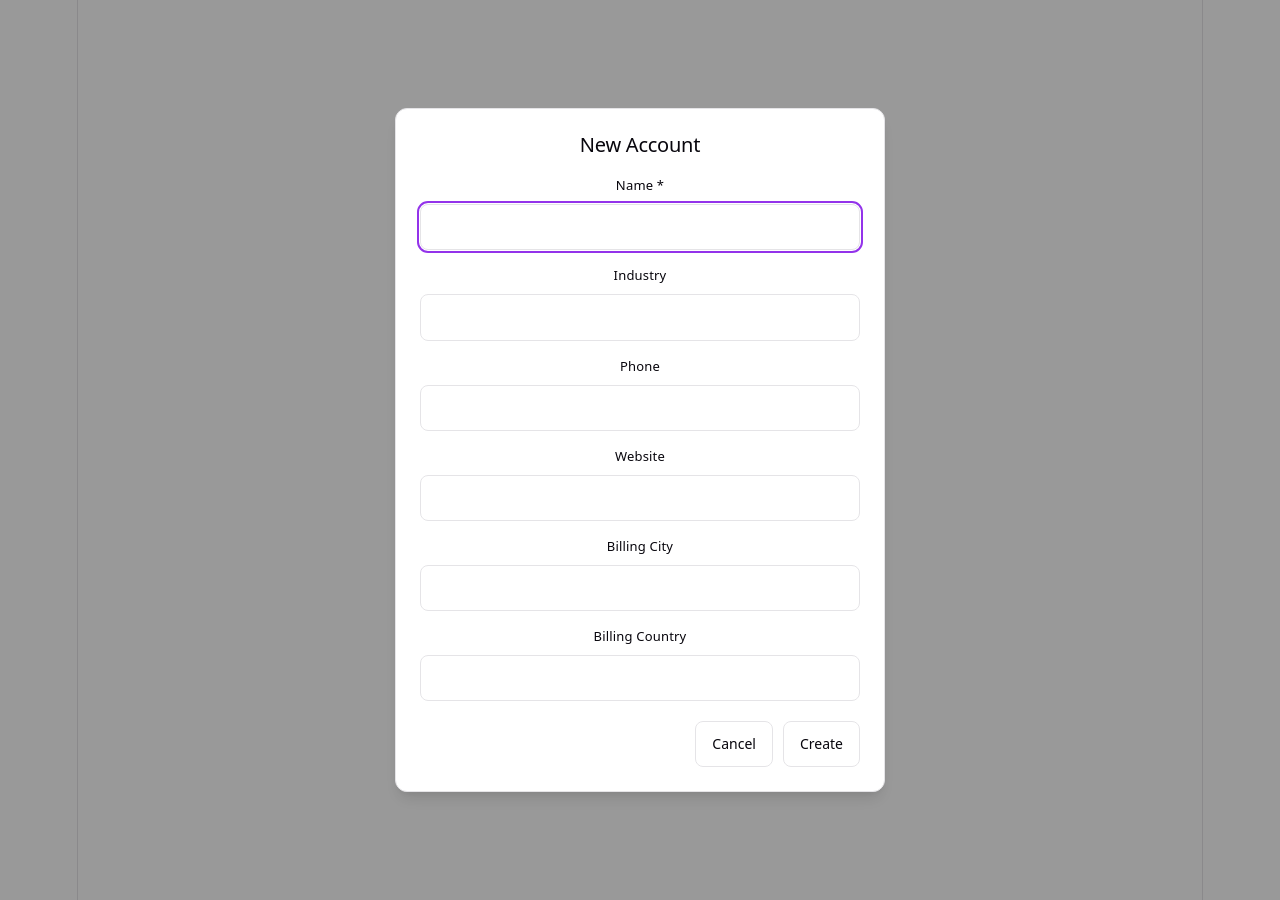
Test: NewAccountModal › shows the API error message and does not close on failure
Type "Acme Corp" into the field labelled "Name *" at (640, 227), box top-left (420, 204), bottom-right (860, 250)
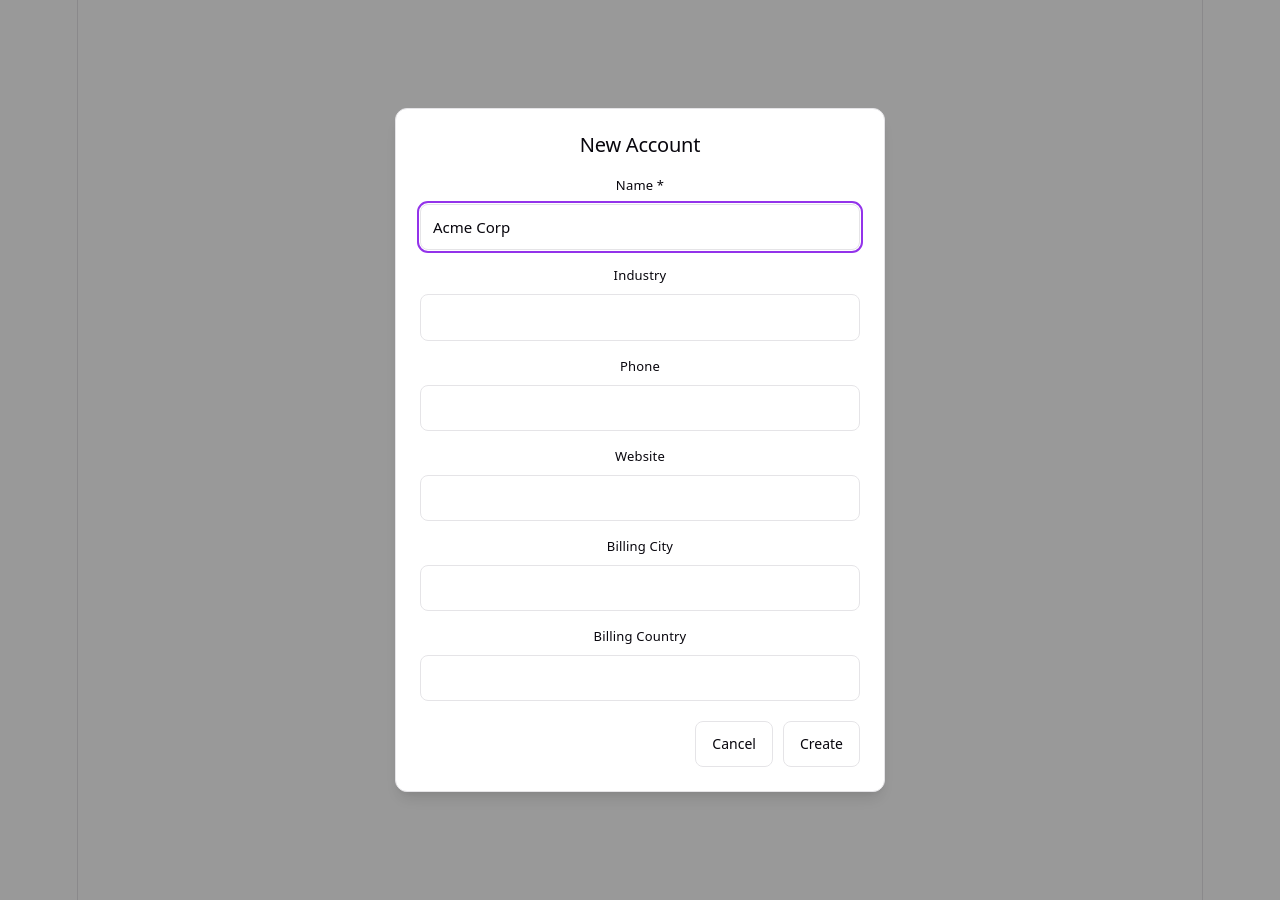
Click the button "Create" at (821, 744), box top-left (783, 721), bottom-right (860, 767)
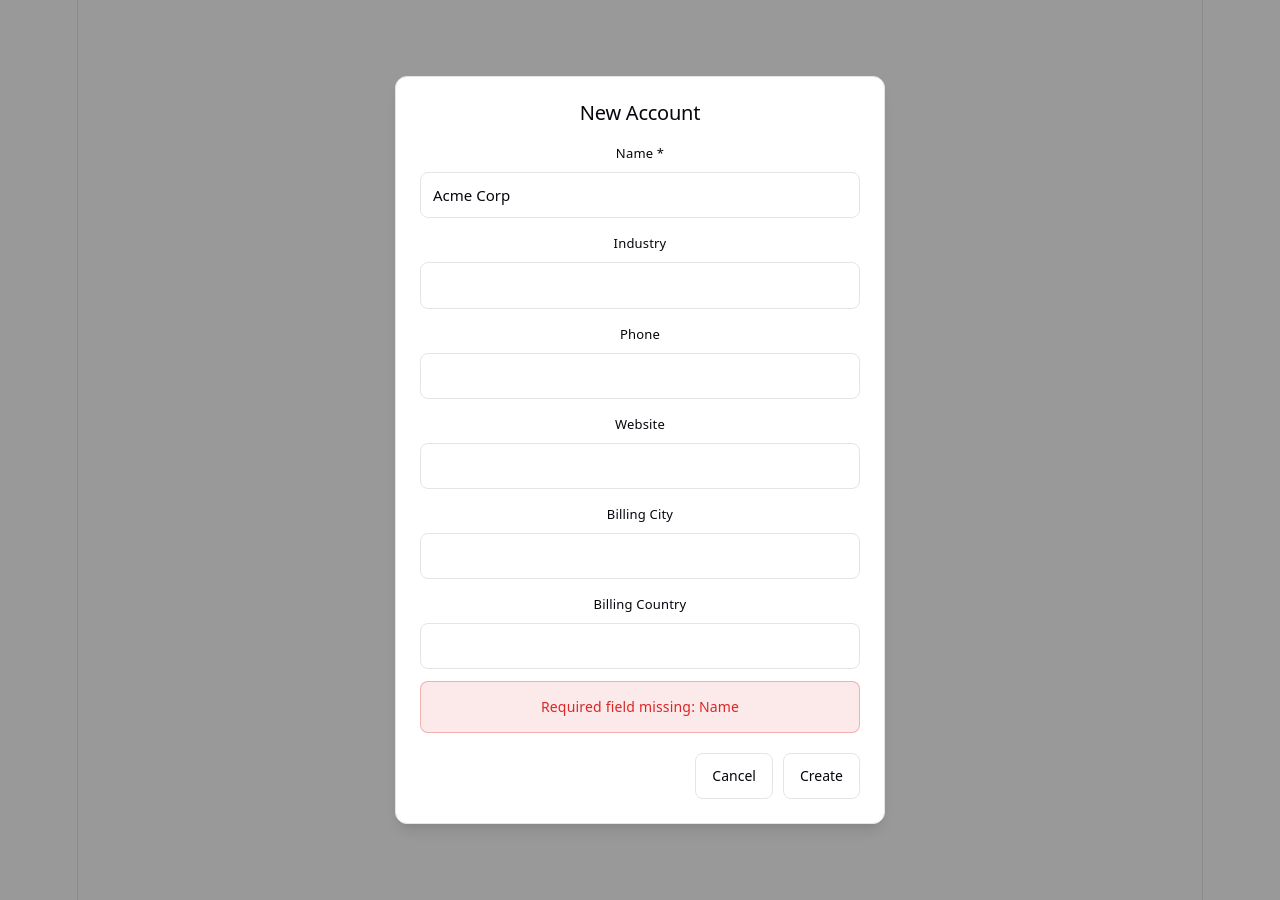
Check: the text "Required field missing: Name" is shown, box top-left (420, 681), bottom-right (860, 733)
